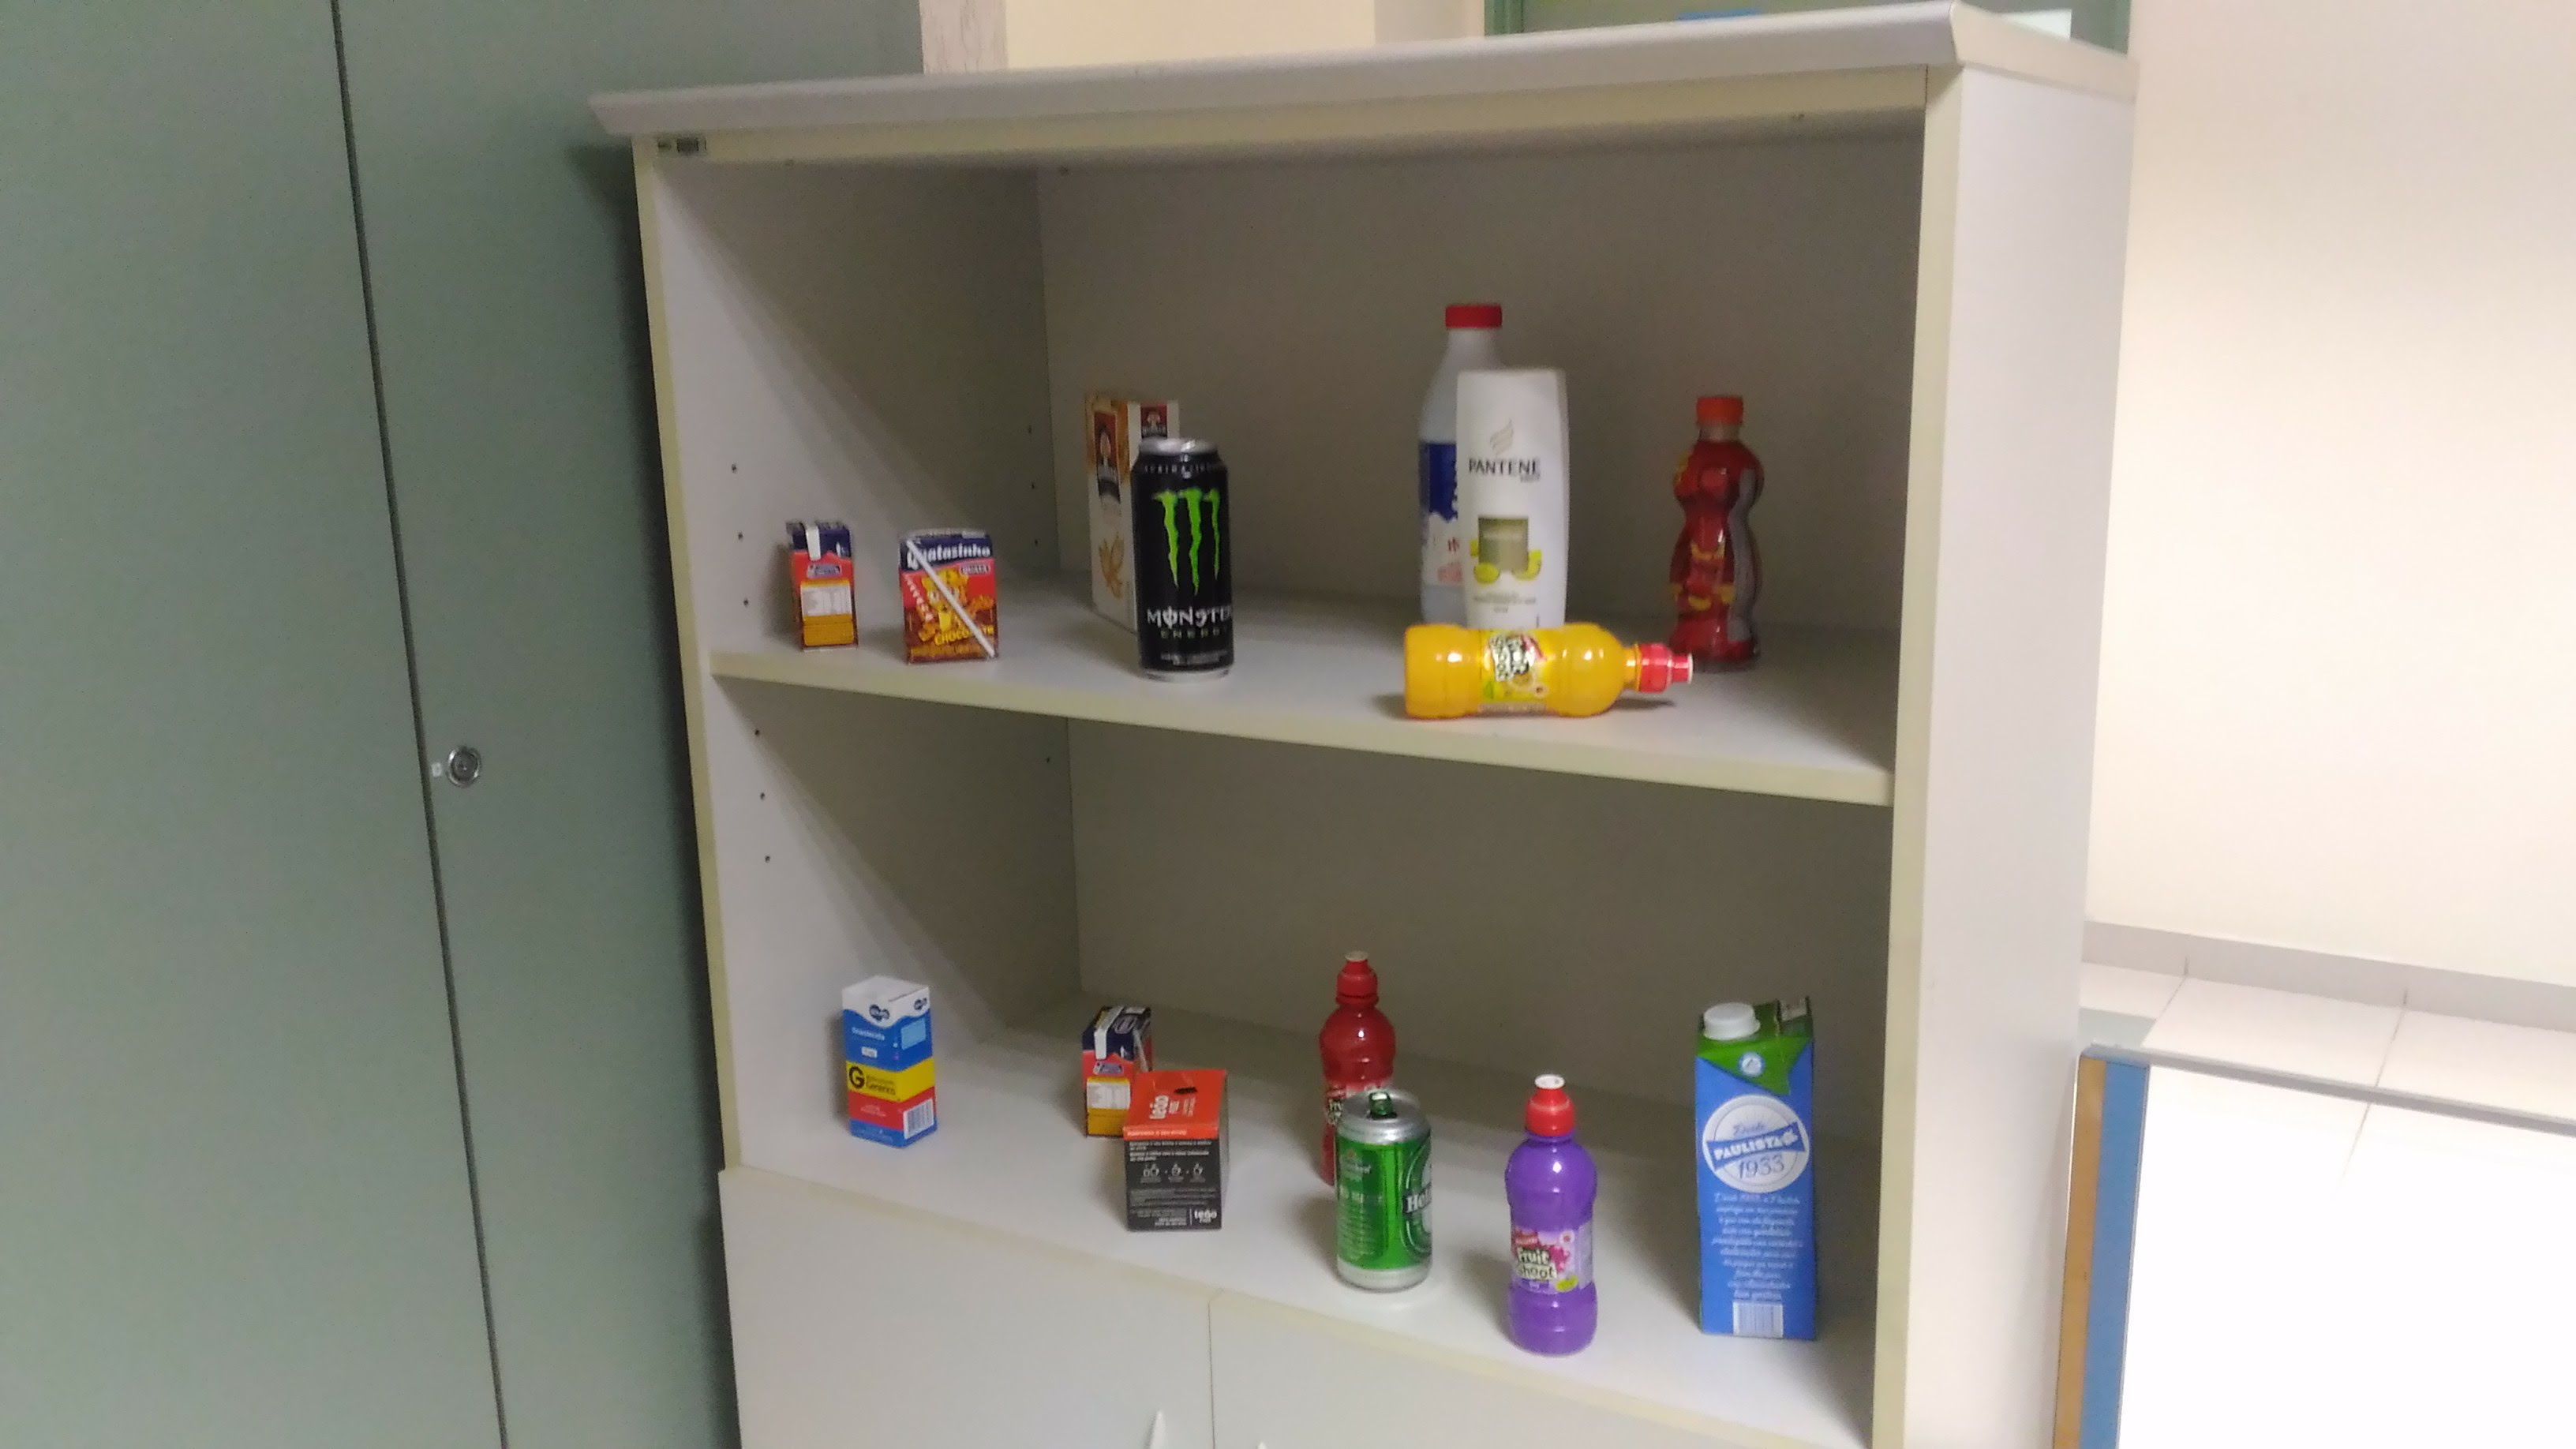chocolate_milk: (890, 515, 1009, 678), (781, 511, 868, 658)
heineken: (1327, 1075, 1440, 1304)
iron_man: (1660, 382, 1764, 680)
medicine: (831, 965, 947, 1151)
milk_box: (1679, 996, 1837, 1349)
monster: (1125, 421, 1237, 689)
purple_juice: (1494, 1067, 1606, 1360)
shampoo: (1451, 359, 1578, 619)
tea_box: (1110, 1058, 1243, 1239)
yellow_juice: (1395, 619, 1705, 728)
